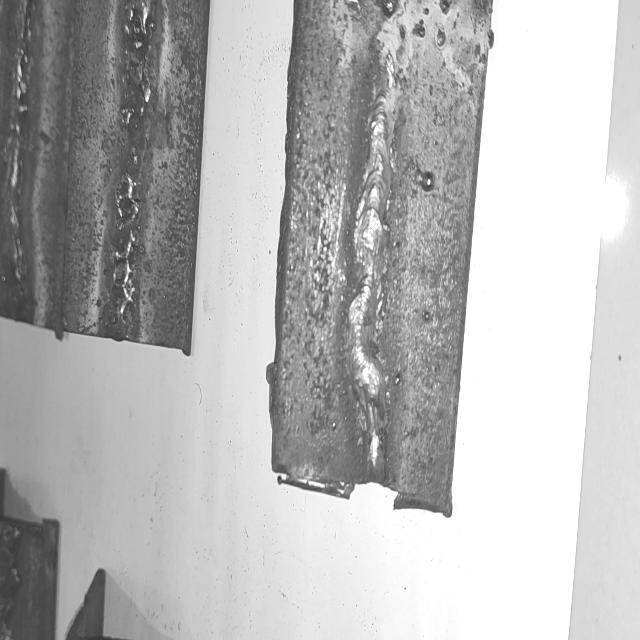Defect: (119, 0, 149, 337), (348, 0, 487, 55), (7, 2, 30, 305)
Welding Line: (339, 79, 401, 474), (107, 0, 153, 329), (8, 0, 33, 312)
Workpiece: (266, 0, 481, 513), (74, 0, 204, 350), (0, 0, 68, 338)
